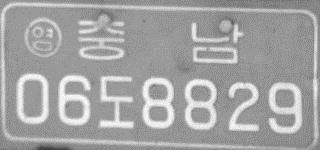0: (14, 71, 50, 125)
2: (226, 81, 261, 133)
6: (57, 74, 92, 128)
8: (140, 76, 176, 131), (183, 78, 218, 132)
9: (267, 81, 304, 134)
도: (98, 74, 135, 129)
영: (23, 16, 61, 59)
충남_D: (76, 19, 243, 64)
